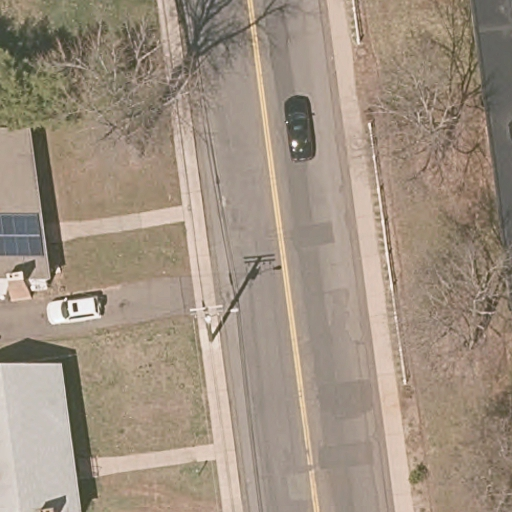DT: (189, 302, 239, 343)
